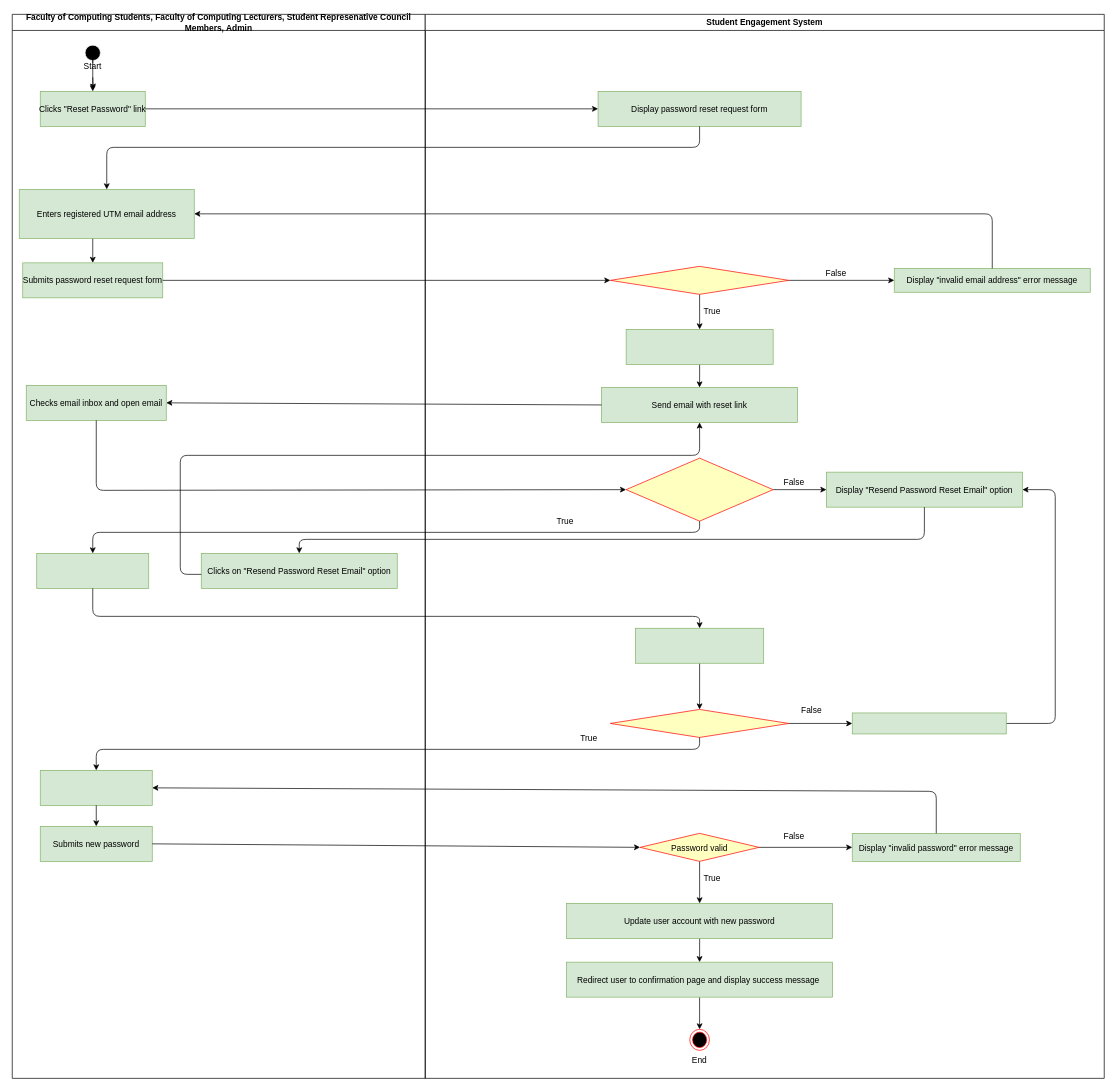
The diagram is 1117 pixels wide and 1091 high, and some of its shapes have lost their labels. The centre of each missing label's shape, as x and y in pixels:
"Clicks on password reset link" belongs at (x=92, y=570).
"Display error message" belongs at (x=929, y=723).
"Enters new password" belongs at (x=96, y=787).
"Generate unique password reset link" belongs at (x=699, y=346).
"Receive email within reasonable time" belongs at (x=699, y=489).
"Receive password reset request" belongs at (x=699, y=645).
"Valid email address" belongs at (x=699, y=280).
"Verification link valid and not expired" belongs at (x=699, y=723).
